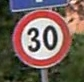limite 30: (10, 9, 69, 68)
